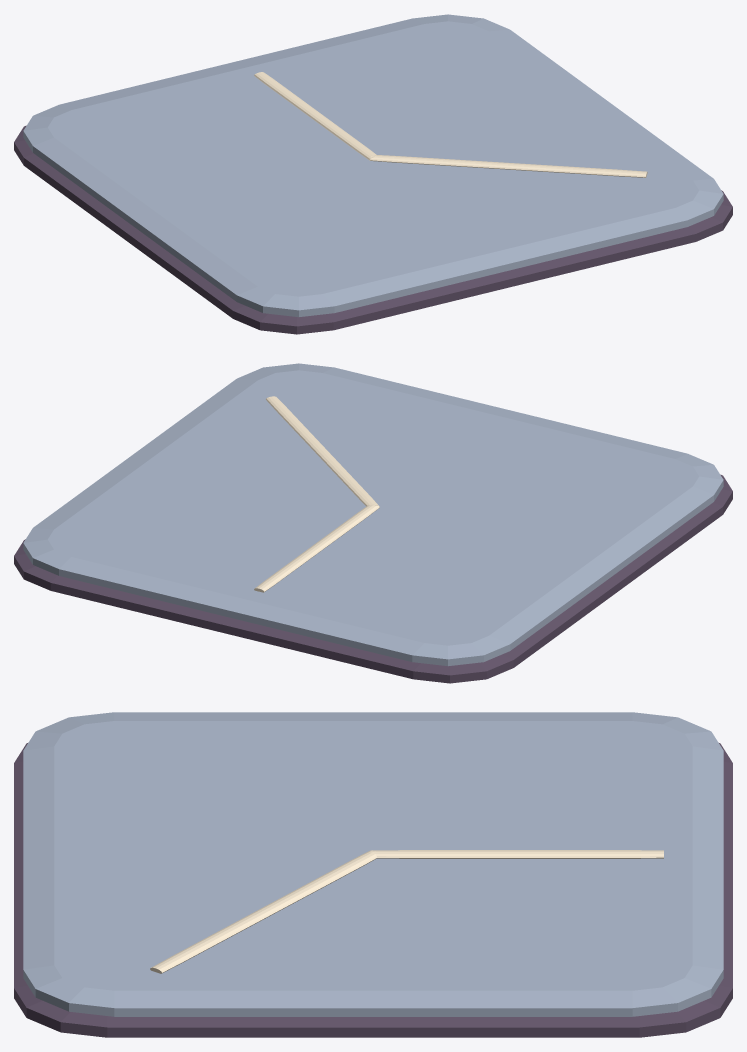
File: tile_corner.glb
3 views of the same model, one above another, from view 1: azimuth 30°, elevation 25°; view 2: azimuth 150°, elevation 25°; view 3: azimuth 270°, elevation 25° (orthographic). The views are drawn at different scales.
Visible parts, largest first — view 1: model; view 2: model; view 3: model.
Boxes of the visible parts, x1,y1,x2,y2 form: model: [14, 14, 732, 334]; model: [14, 363, 732, 683]; model: [14, 712, 732, 1037].
Size of the model in its own units: 2 by 0.12 by 2.
